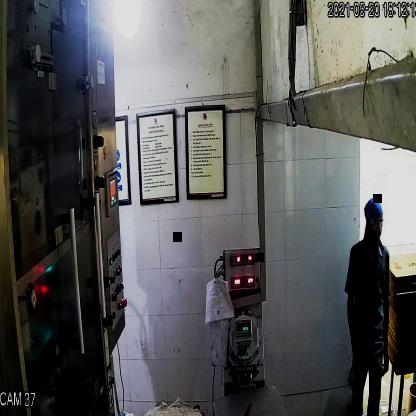goggles: (364, 212, 386, 232)
